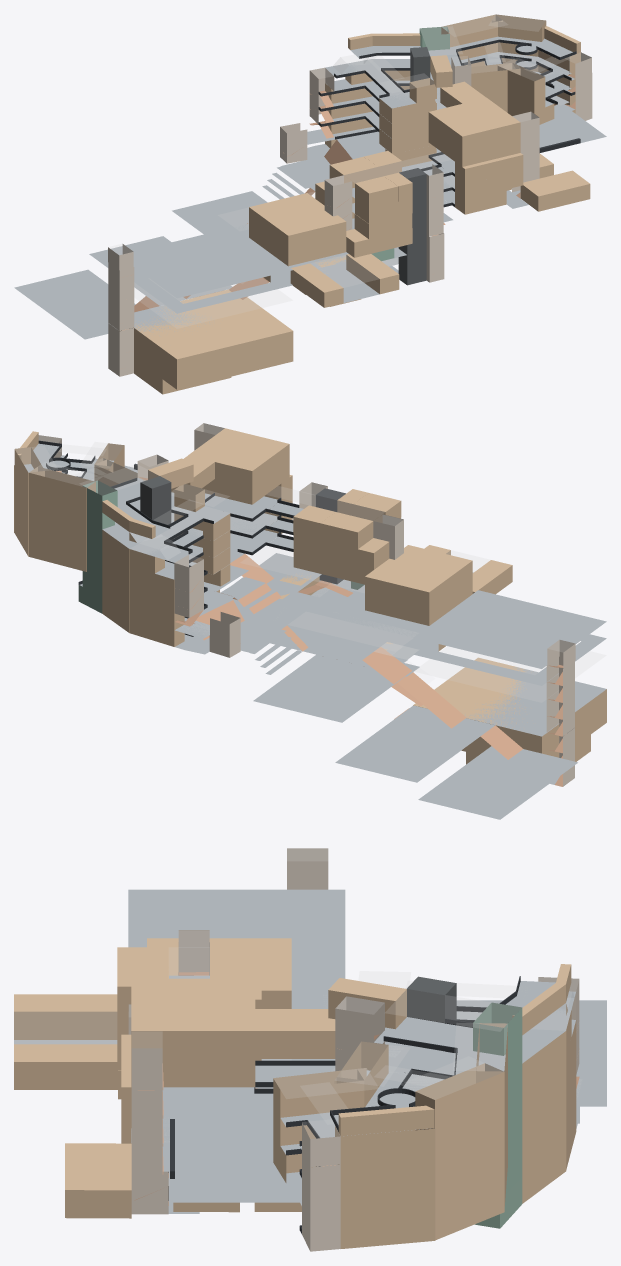
The model's file is building.glb.
3 renders of one model, top to bottom at view 1: azimuth 30°, elevation 25°; view 2: azimuth 150°, elevation 25°; view 3: azimuth 270°, elevation 25°, orthographic. The views are drawn at different scales.
Visible parts, largest first — view 1: Cube.016, 平面.002, 立方體.048, 平面.020, 立方體.490, Cube.012, Cube.019, 立方體.162, 立方體.117, Cube.008, 平面.016, 立方體.412 (+38 smaller); view 2: 平面.002, 立方體.048, 平面.020, 平面.019, 立方體.162, Cube.016, 平面.003, 立方體.490, Cube.020, Cube.012, 平面.007, 平面.001 (+52 smaller); view 3: 平面.002, 平面.016, 立方體.490, 立方體.117, 立方體.520, 立方體.048, 立方體.034, 立方體.540, 立方體.554, 立方體.057, 立方體.058, 立方體.469 (+64 smaller).
Boxes of the visible parts, x1,y1,x2,y2 form: Cube.016: [119, 289, 293, 374]; 平面.002: [119, 227, 292, 298]; 立方體.048: [249, 193, 346, 266]; 平面.020: [14, 269, 135, 339]; 立方體.490: [428, 98, 520, 151]; Cube.012: [135, 278, 292, 328]; Cube.019: [134, 343, 293, 389]; 立方體.162: [172, 191, 267, 234]; 立方體.117: [520, 170, 590, 211]; Cube.008: [134, 267, 292, 313]; 平面.016: [539, 106, 606, 147]; 立方體.412: [428, 127, 520, 166]; 平面.002: [413, 590, 606, 668]; 立方體.048: [365, 545, 472, 625]; 平面.020: [418, 746, 577, 819]; 平面.019: [335, 705, 494, 782]; 立方體.162: [253, 654, 405, 722]; Cube.016: [413, 657, 606, 753]; 平面.003: [184, 553, 322, 652]; 立方體.490: [188, 428, 289, 487]; Cube.020: [464, 667, 606, 736]; Cube.012: [414, 647, 605, 702]; 平面.007: [276, 619, 386, 659]; 平面.001: [306, 596, 428, 637]; 平面.002: [128, 889, 345, 994]; 平面.016: [170, 1108, 301, 1202]; 立方體.490: [131, 978, 255, 1058]; 立方體.117: [65, 1143, 131, 1218]; 立方體.520: [254, 1009, 335, 1058]; 立方體.048: [147, 938, 291, 1008]; 立方體.034: [14, 1012, 116, 1043]; 立方體.540: [415, 1063, 504, 1127]; 立方體.554: [385, 989, 520, 1030]; 立方體.057: [14, 1044, 75, 1089]; 立方體.058: [14, 994, 75, 1039]; 立方體.469: [335, 1126, 435, 1164].
Bounding box in the file's own units: 103 × 42 × 57.39.
